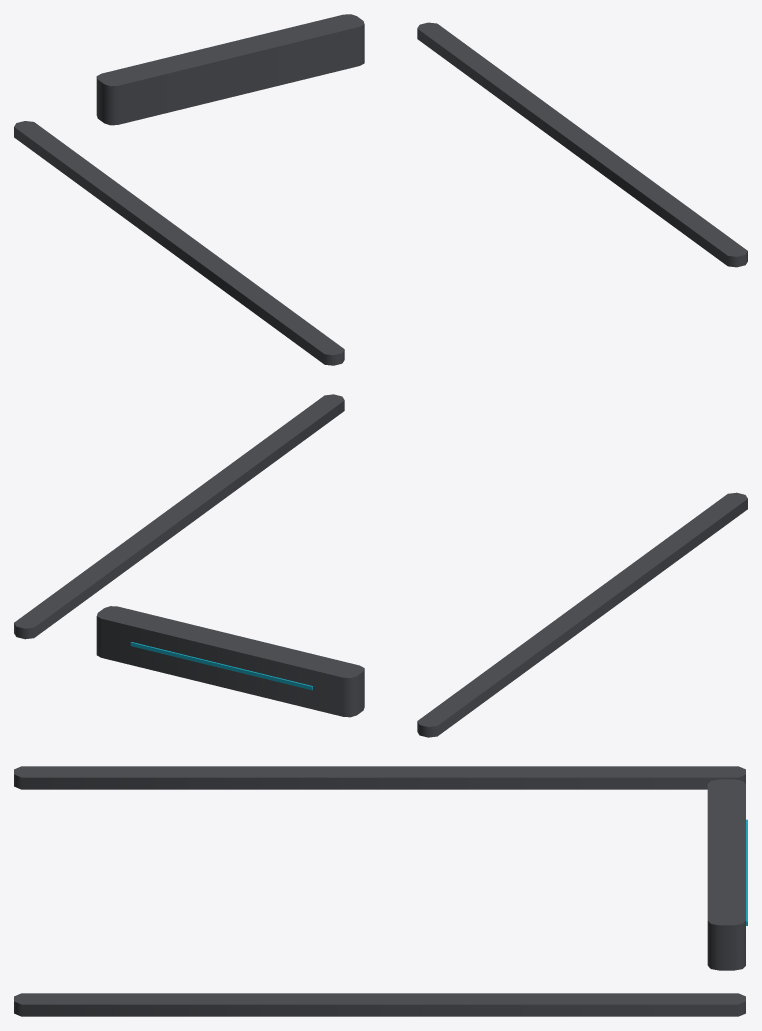
File: mcc3_mount.obj
3 views of the same model, one above another, from view 1: azimuth 30°, elevation 25°; view 2: azimuth 150°, elevation 25°; view 3: azimuth 270°, elevation 25° (orthographic). The views are drawn at different scales.
Parts seen in each view (by area): view 1: mcc3_mount; view 2: mcc3_mount; view 3: mcc3_mount.
Part boxes in pixels (x1,y1,x2,y2): mcc3_mount: [14, 14, 747, 365]; mcc3_mount: [14, 394, 747, 737]; mcc3_mount: [14, 766, 747, 1016].
Bounding box in the file's own units: 1.47 × 0.13 × 1.91.
